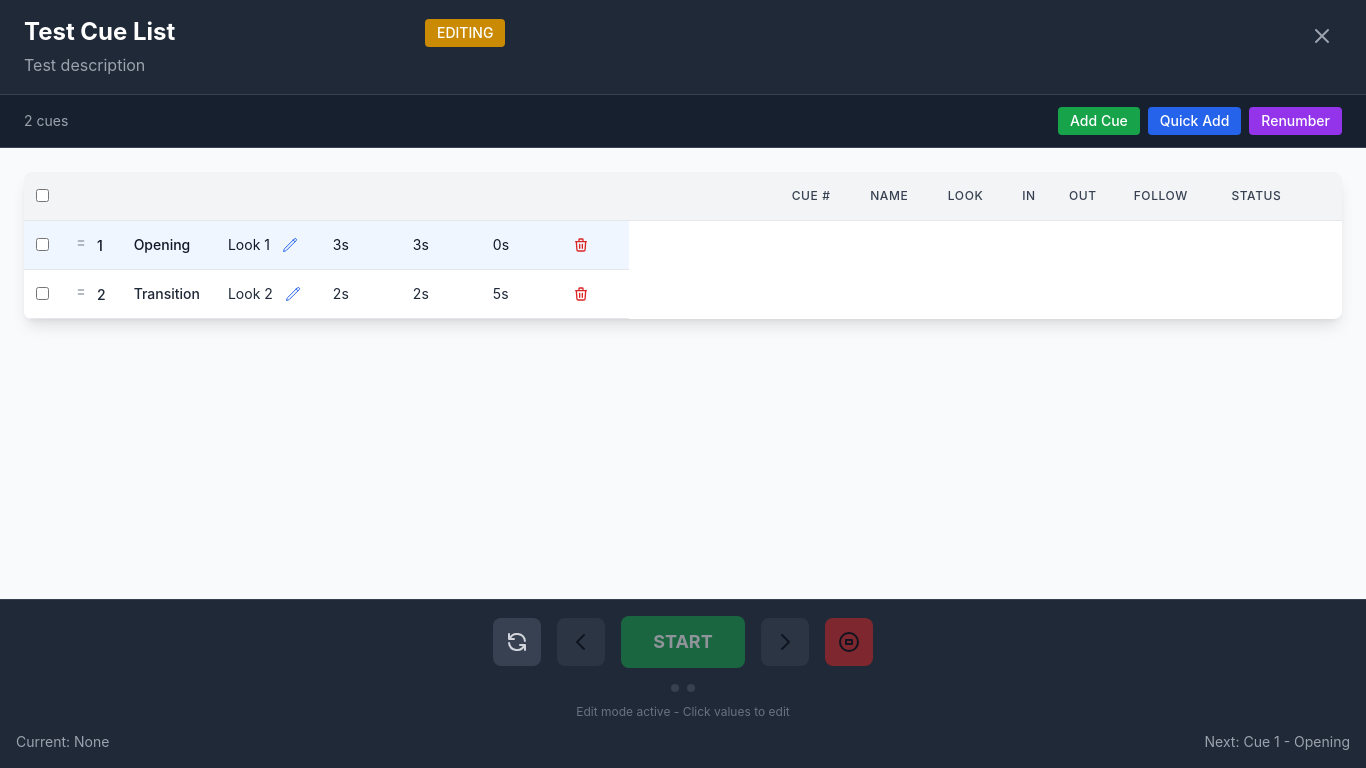
Test case: CueListUnifiedView › edit mode functionality › shows add cue form in edit mode
Check: the text "EDITING" is shown, box [425, 18, 505, 46]
Click the button "Quick Add": [1195, 121] box [1148, 107, 1241, 135]
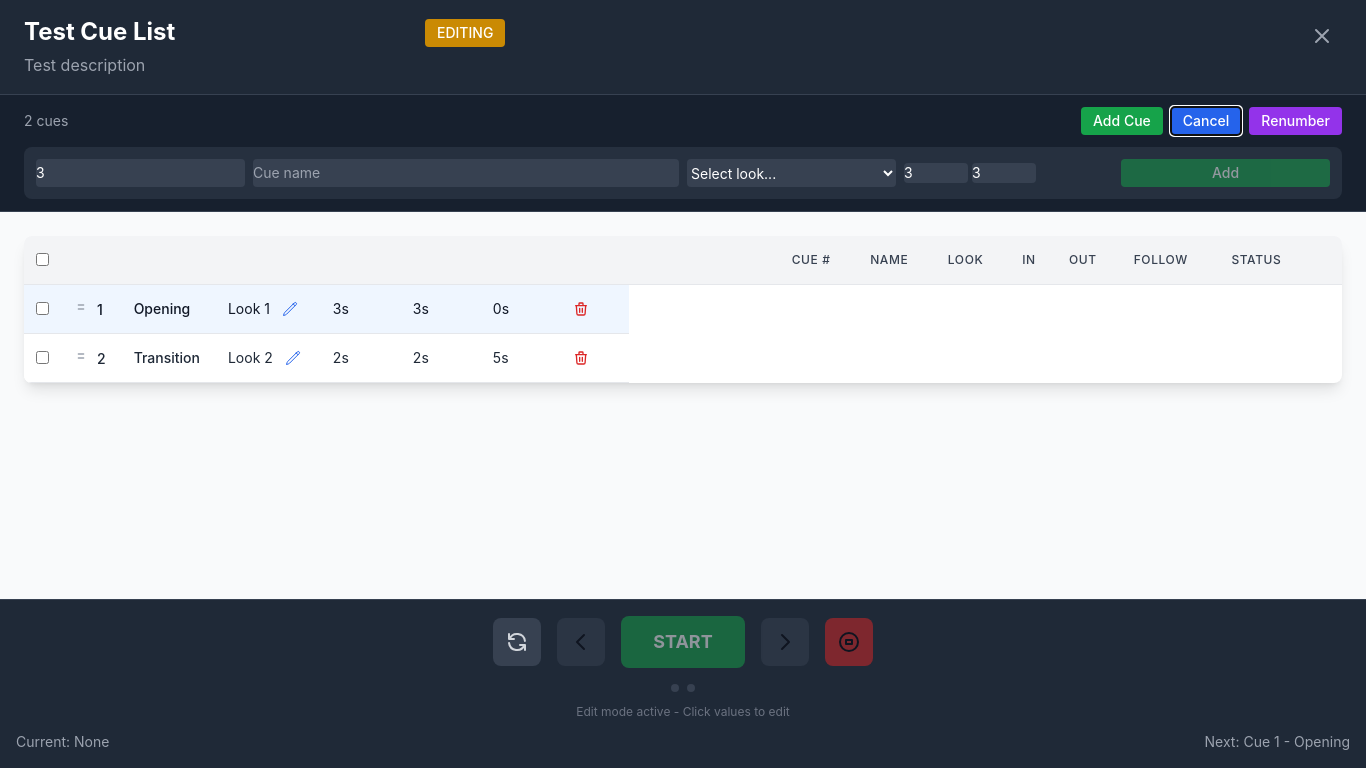
Check: the 1st number field with placeholder "Cue #" is shown, box [36, 159, 245, 187]
Check: the field with placeholder "Cue name" is shown, box [253, 159, 679, 187]
